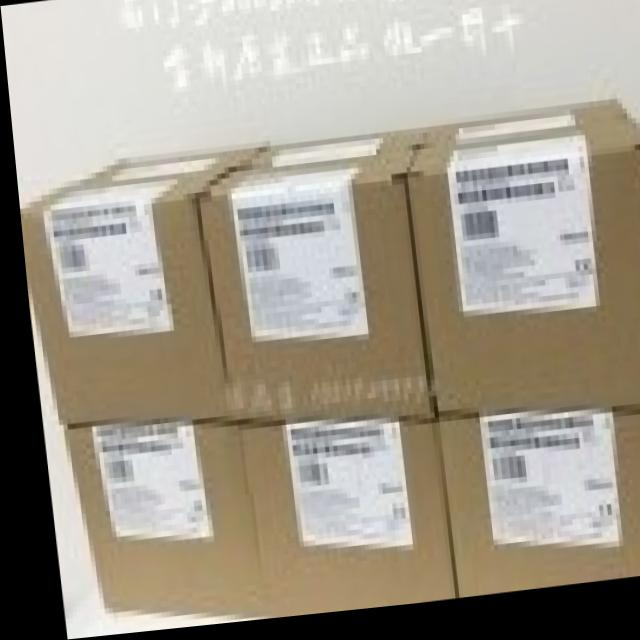box: (402, 113, 640, 425), (16, 148, 264, 423), (195, 134, 426, 426), (225, 424, 442, 620), (53, 422, 254, 622), (425, 423, 640, 599)
